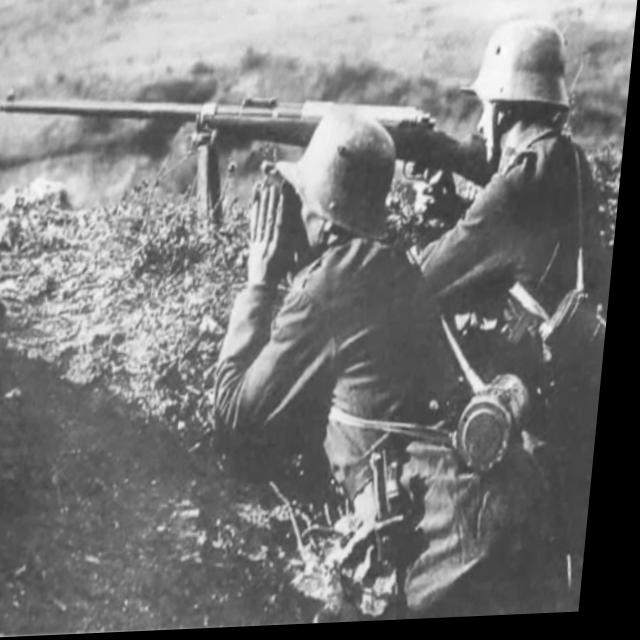other: (205, 114, 505, 559), (411, 17, 637, 318)
